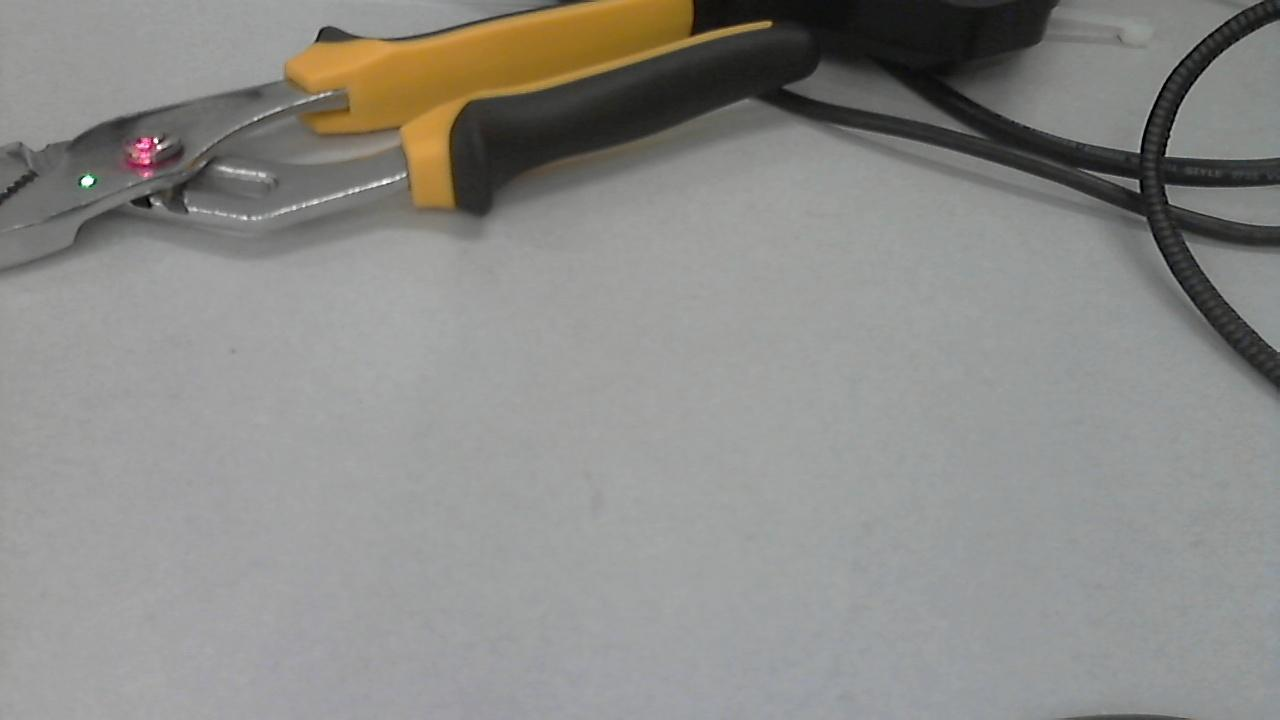Object white rectangular foam block - Material Foam - Color white - Pdfname LpbA: (71, 127, 170, 196)
